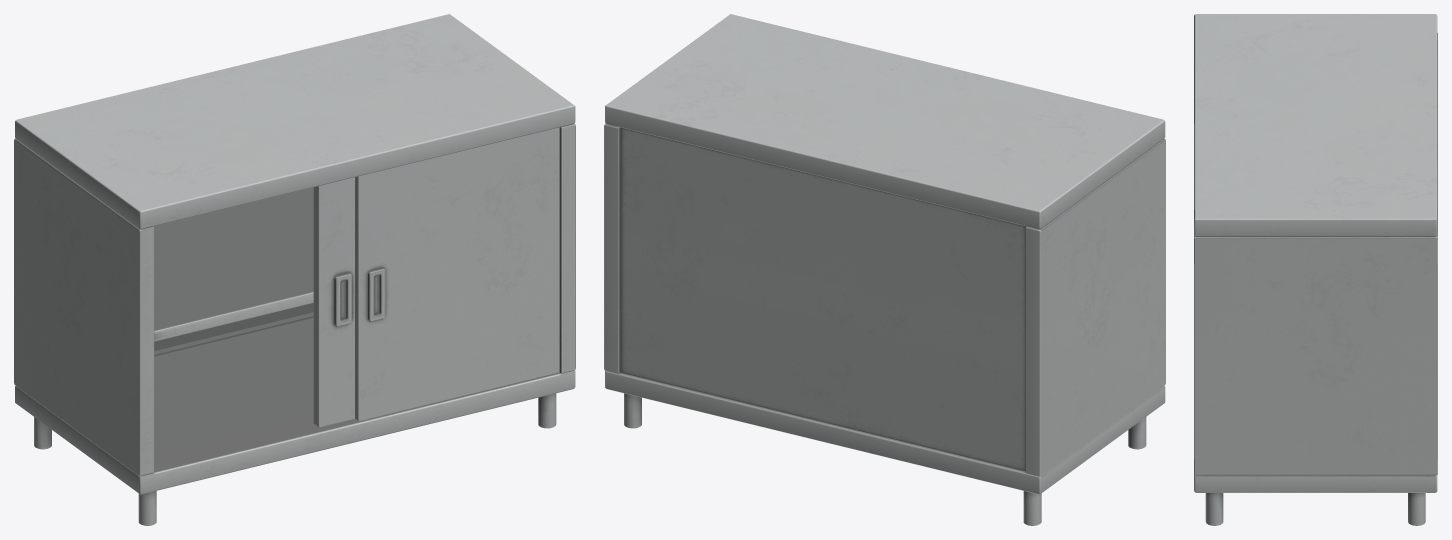
File: CabinetSteel_01_Open 1.FBX
3 renders of one model, left to right at view 1: azimuth 30°, elevation 25°; view 2: azimuth 150°, elevation 25°; view 3: azimuth 270°, elevation 25°, orthographic. The views are drawn at different scales.
Parts seen in each view (by area): view 1: CabinetSteel_01_Open; view 2: CabinetSteel_01_Open; view 3: CabinetSteel_01_Open.
Boxes of the visible parts, x1,y1,x2,y2 form: CabinetSteel_01_Open: [14, 14, 575, 525]; CabinetSteel_01_Open: [604, 14, 1165, 525]; CabinetSteel_01_Open: [1194, 14, 1437, 525].
Bounding box in the file's own units: 120 × 85 × 60.13.
Materials: 1 (1 with a texture image).
